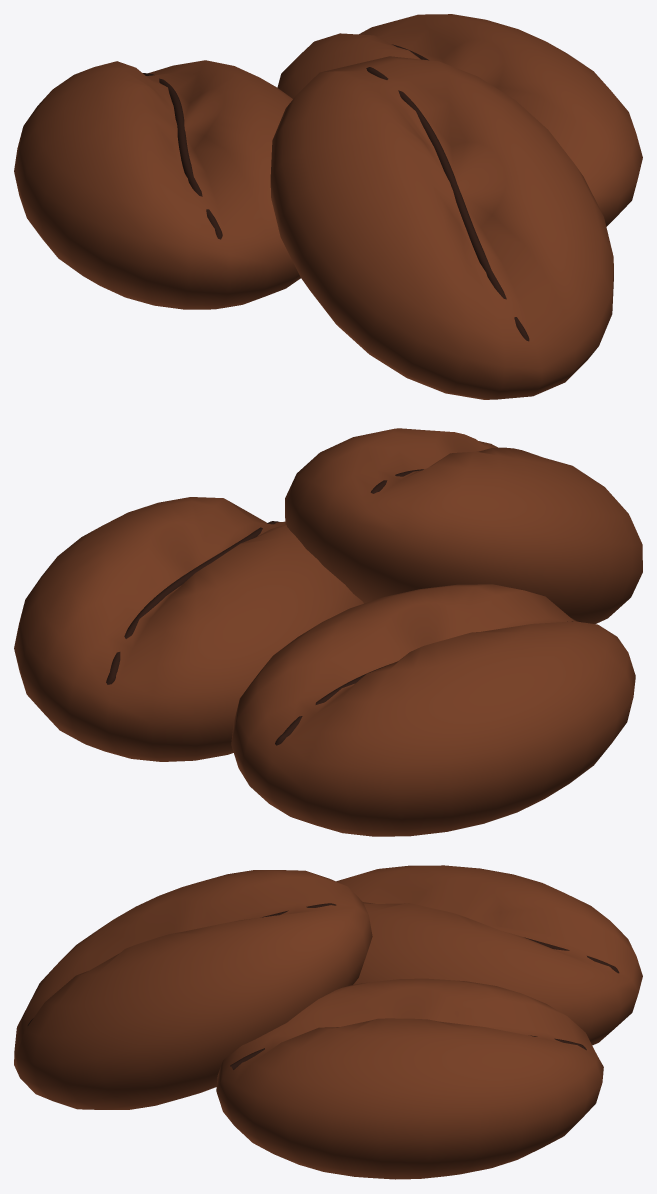
Rendered from Item_Bean.fbx.
3 renders of one model, top to bottom at view 1: azimuth 30°, elevation 25°; view 2: azimuth 150°, elevation 25°; view 3: azimuth 270°, elevation 25°, orthographic. The views are drawn at different scales.
Parts seen in each view (by area): view 1: Day_Bean.001; view 2: Day_Bean.001; view 3: Day_Bean.001.
Boxes of the visible parts, bbox=[...] form: Day_Bean.001: bbox=[14, 14, 642, 399]; Day_Bean.001: bbox=[14, 428, 642, 836]; Day_Bean.001: bbox=[14, 865, 642, 1179].
Bounding box in the file's own units: 44.99 × 18.92 × 51.02.
